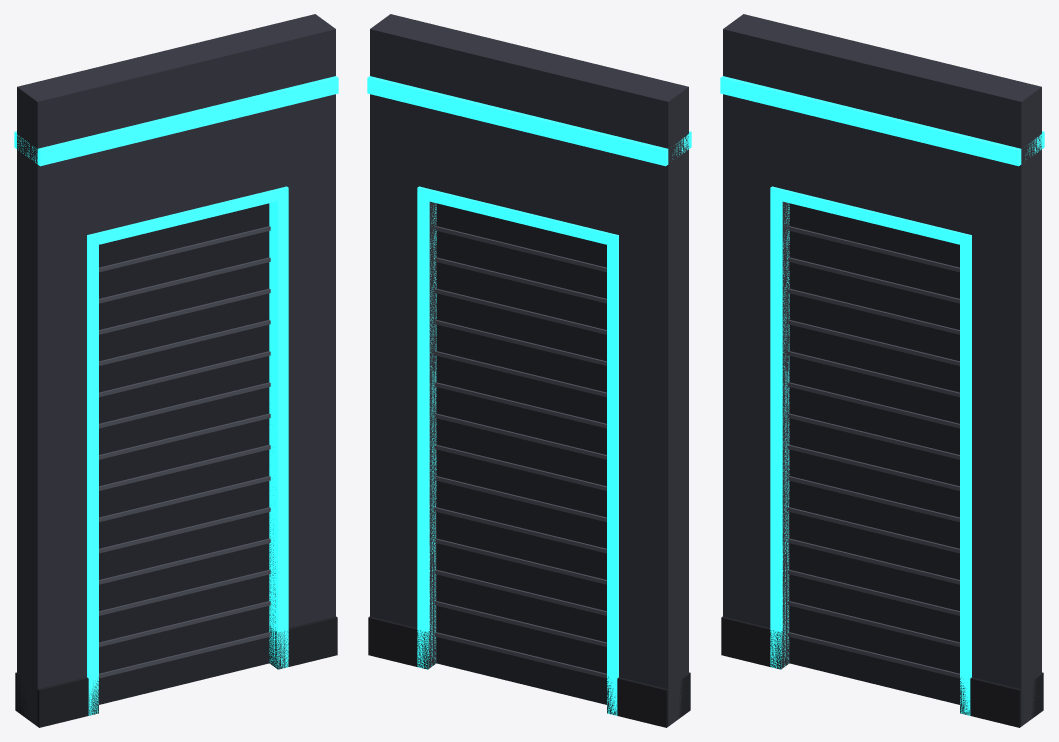
The model's file is cyb-concreto-ciano-porta.gltf.
The picture shows the model from 3 angles, left to right: view 1: azimuth 30°, elevation 25°; view 2: azimuth 150°, elevation 25°; view 3: azimuth 330°, elevation 25°; orthographic projection.
Parts seen in each view (by area): view 1: cyb-concreto-ciano-porta; view 2: cyb-concreto-ciano-porta; view 3: cyb-concreto-ciano-porta.
Boxes of the visible parts, x1,y1,x2,y2 form: cyb-concreto-ciano-porta: (14,14,338,727); cyb-concreto-ciano-porta: (367,14,691,727); cyb-concreto-ciano-porta: (720,14,1044,727).
Size of the model in its own units: 1 by 2 by 0.15.
